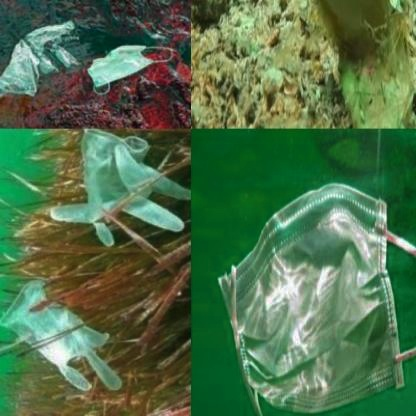Mask: (203, 174, 415, 415), (265, 0, 415, 128), (89, 43, 173, 95)
glove: (48, 129, 190, 254), (0, 270, 130, 395), (0, 19, 80, 100)
